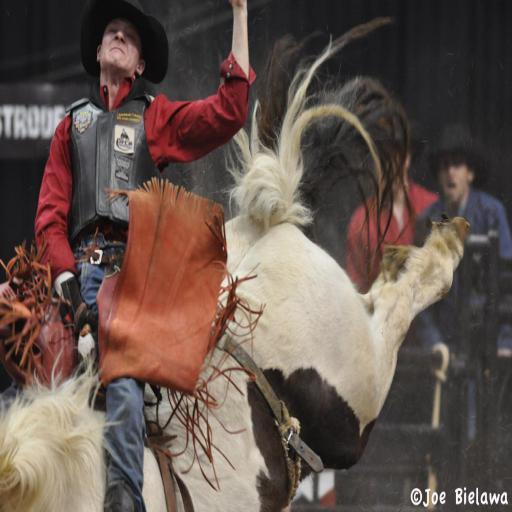horse: (0, 12, 472, 512)
